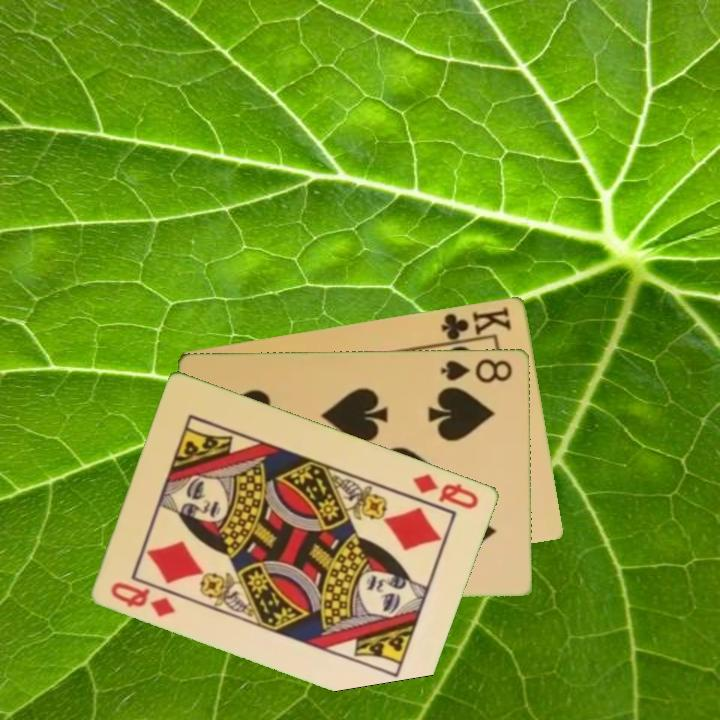8s: (438, 355, 515, 386)
Kc: (437, 302, 515, 347)
Qd: (409, 470, 482, 512), (107, 578, 179, 620)
